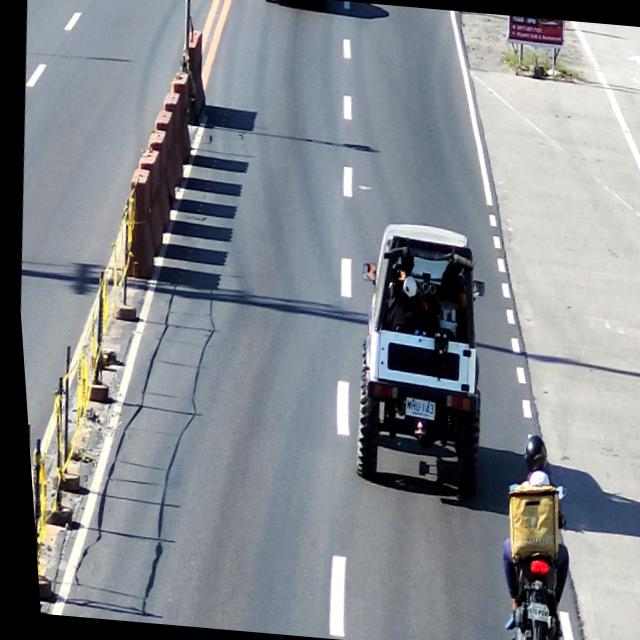Car: (343, 217, 496, 498)
License-Plate: (395, 394, 434, 424), (516, 594, 544, 624)
Motorcycle: (480, 453, 577, 640)
